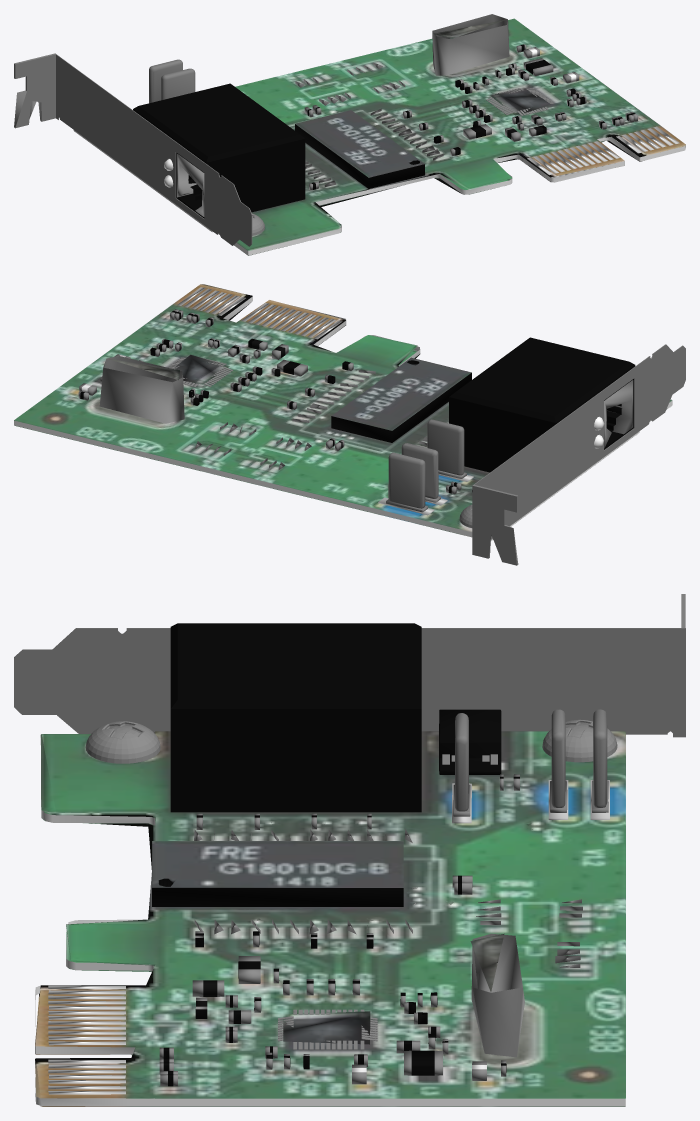
The model's file is dev-nic_lod2.glb.
3 renders of one model, top to bottom at view 1: azimuth 30°, elevation 25°; view 2: azimuth 150°, elevation 25°; view 3: azimuth 270°, elevation 25°, orthographic. The views are drawn at different scales.
Parts seen in each view (by area): view 1: body; view 2: body; view 3: body.
Part boxes in pixels (<box>): body: <box>14,14,685,255</box>; body: <box>14,284,685,565</box>; body: <box>14,594,685,1106</box>.
Bounding box in the file's own units: 0.12 × 0.0168 × 0.0848.
7 materials, 1 textured.
